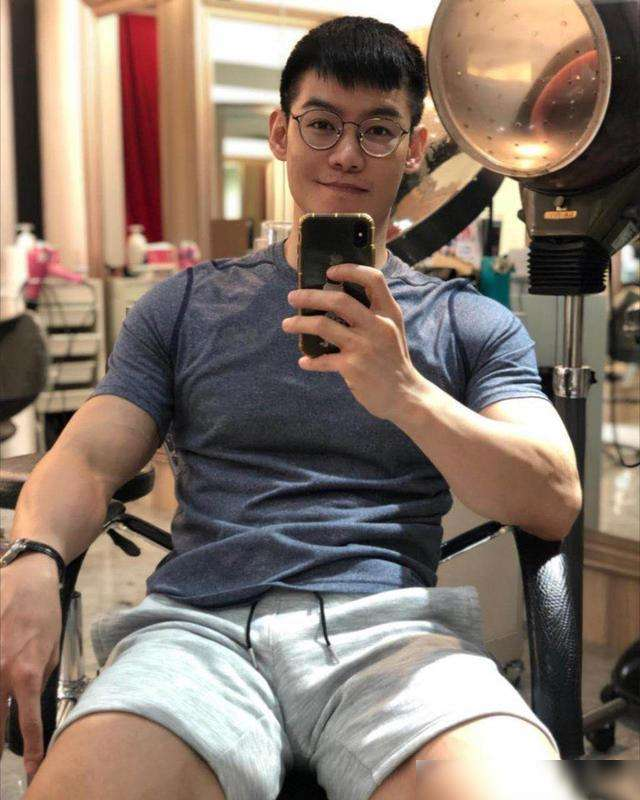person: (181, 20, 556, 769)
